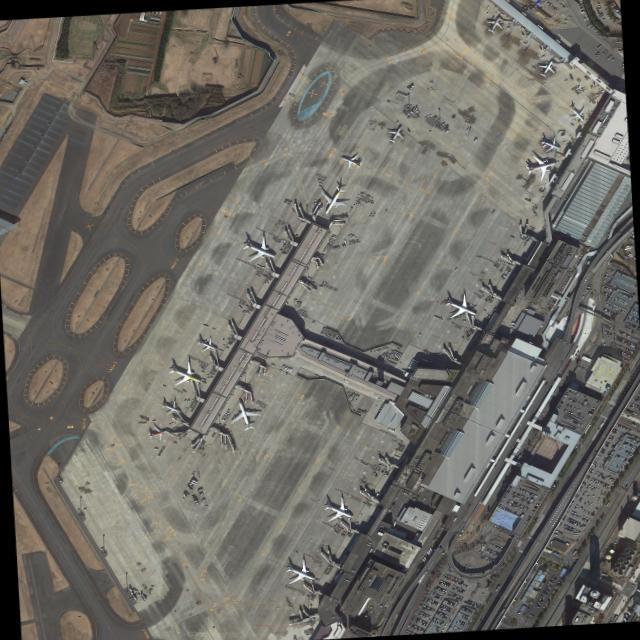large-vehicle: (599, 421, 603, 426), (616, 231, 620, 235), (417, 332, 421, 336), (567, 15, 570, 18), (516, 21, 519, 24), (596, 31, 599, 34), (599, 33, 602, 36), (541, 196, 544, 199), (482, 309, 485, 311)
plane: (307, 175, 360, 223), (232, 227, 286, 271), (433, 285, 485, 329), (158, 352, 209, 395), (311, 488, 361, 530), (273, 551, 324, 592), (224, 396, 267, 435), (519, 148, 563, 186), (189, 331, 224, 358), (380, 119, 410, 148), (333, 149, 367, 174), (141, 420, 172, 446), (562, 99, 591, 126), (534, 132, 565, 157), (481, 11, 506, 36)
small-vehicle: (523, 436, 526, 440), (591, 406, 595, 409), (606, 474, 609, 478), (589, 25, 593, 28), (559, 359, 562, 363), (636, 311, 639, 315), (508, 485, 512, 488), (552, 587, 556, 590), (518, 445, 521, 448), (520, 442, 523, 445), (521, 440, 524, 443), (577, 422, 580, 425), (568, 418, 571, 421), (518, 422, 521, 425), (535, 436, 538, 439), (602, 418, 605, 421), (525, 434, 528, 437), (604, 443, 607, 446), (629, 438, 632, 441), (572, 406, 575, 409), (628, 403, 631, 406), (630, 410, 633, 413), (637, 407, 640, 410), (595, 400, 598, 403), (568, 398, 571, 401), (563, 394, 566, 397), (577, 408, 580, 411), (565, 403, 568, 406), (574, 506, 577, 509), (568, 505, 571, 508), (582, 509, 585, 512), (600, 472, 603, 475), (571, 501, 574, 504), (587, 503, 590, 506), (594, 486, 597, 489), (580, 486, 583, 489), (596, 499, 599, 502), (599, 489, 602, 492), (599, 497, 602, 500), (591, 494, 594, 497), (603, 490, 606, 493), (599, 491, 602, 494), (574, 496, 577, 499), (564, 510, 567, 513), (584, 510, 587, 513), (588, 512, 591, 515), (581, 514, 584, 517), (587, 517, 590, 520), (583, 501, 586, 504), (589, 479, 592, 482), (622, 443, 625, 446), (617, 454, 620, 457), (617, 449, 620, 452), (604, 457, 607, 460), (597, 454, 600, 457), (607, 457, 610, 460), (599, 463, 602, 466), (607, 478, 610, 481), (603, 485, 606, 488), (626, 453, 629, 456), (590, 462, 593, 465), (620, 455, 623, 458), (625, 457, 628, 460), (623, 460, 626, 463), (622, 459, 625, 462), (593, 472, 596, 475), (602, 473, 605, 476), (604, 274, 607, 277), (622, 294, 625, 297), (625, 295, 628, 298), (616, 299, 619, 302), (619, 301, 622, 304), (621, 268, 624, 271), (609, 288, 612, 291), (604, 291, 607, 294), (608, 304, 611, 307), (631, 310, 634, 313), (619, 272, 622, 275), (606, 280, 609, 283), (602, 285, 605, 288), (633, 284, 636, 287), (616, 305, 619, 308), (600, 13, 603, 16), (493, 5, 496, 8), (550, 5, 553, 8), (585, 20, 588, 23), (586, 21, 589, 24), (515, 296, 518, 299), (550, 301, 553, 304), (518, 291, 521, 294), (543, 49, 546, 52), (563, 79, 566, 82), (580, 240, 583, 243), (562, 283, 565, 286), (561, 284, 564, 287), (603, 307, 606, 310), (611, 341, 614, 344), (572, 349, 575, 352), (571, 351, 574, 354), (574, 352, 577, 355), (623, 341, 626, 344), (601, 348, 604, 351), (579, 376, 582, 379), (560, 376, 563, 379), (551, 391, 554, 394), (611, 352, 614, 355), (628, 354, 631, 357), (620, 351, 623, 354), (617, 349, 620, 352), (615, 348, 618, 351), (631, 315, 634, 318), (633, 316, 636, 319), (509, 327, 512, 330), (510, 328, 513, 331), (608, 326, 611, 329), (634, 319, 637, 322), (623, 332, 626, 335), (624, 333, 627, 336), (626, 334, 629, 337), (626, 321, 629, 324), (416, 628, 419, 631), (410, 626, 413, 629), (418, 613, 421, 616), (426, 616, 429, 619), (419, 630, 422, 633), (451, 584, 454, 587), (418, 610, 421, 613), (435, 593, 438, 596), (433, 592, 436, 595), (431, 594, 434, 597), (421, 598, 424, 601), (419, 602, 422, 605), (449, 607, 452, 610), (446, 606, 449, 609), (444, 605, 447, 608), (442, 604, 445, 607), (421, 606, 424, 609), (456, 602, 459, 605), (451, 603, 454, 606), (450, 602, 453, 605), (433, 617, 436, 620), (439, 611, 442, 614), (441, 614, 444, 617), (458, 611, 461, 614), (453, 625, 456, 628), (448, 626, 451, 629), (443, 624, 446, 627), (440, 628, 443, 631), (437, 626, 440, 629), (431, 627, 434, 630), (428, 625, 431, 628), (404, 492, 407, 495), (412, 494, 415, 497), (491, 307, 494, 310), (496, 554, 499, 557), (493, 550, 496, 553), (484, 549, 487, 552), (498, 547, 501, 550), (494, 551, 497, 554), (485, 547, 488, 550), (518, 487, 521, 490), (593, 14, 596, 17), (581, 517, 584, 520), (592, 12, 595, 15), (443, 572, 446, 575), (455, 577, 458, 580), (450, 575, 453, 578), (449, 575, 452, 578), (447, 574, 450, 577), (443, 575, 446, 578), (446, 581, 449, 584), (443, 580, 446, 583), (440, 590, 443, 593), (455, 580, 458, 583), (451, 587, 454, 590), (495, 568, 498, 571), (505, 555, 508, 558), (433, 595, 436, 598), (440, 587, 443, 590), (446, 568, 449, 571), (468, 565, 471, 568), (414, 611, 417, 614), (545, 585, 548, 588), (520, 504, 523, 507), (515, 506, 518, 509), (505, 501, 508, 504), (510, 503, 513, 506), (523, 499, 526, 502), (525, 519, 528, 522), (557, 290, 561, 292), (555, 385, 557, 389), (637, 317, 639, 321), (425, 491, 429, 493), (505, 490, 509, 492), (502, 495, 506, 497), (525, 601, 529, 603), (521, 614, 525, 616), (527, 604, 531, 606), (530, 599, 534, 601), (543, 603, 547, 605), (546, 598, 550, 600), (524, 505, 526, 509), (537, 499, 541, 501), (502, 331, 504, 334), (567, 410, 569, 413), (517, 448, 519, 451), (635, 430, 638, 432), (628, 428, 630, 431), (627, 428, 629, 431), (625, 427, 627, 430), (623, 426, 625, 429), (619, 425, 621, 428), (618, 425, 621, 427), (614, 430, 616, 433), (541, 412, 544, 414), (579, 415, 581, 418), (581, 416, 583, 419), (580, 423, 582, 426), (579, 423, 581, 426), (515, 431, 517, 434), (598, 426, 600, 429), (611, 429, 613, 432), (610, 429, 613, 431), (616, 443, 619, 445), (610, 437, 612, 440), (618, 434, 621, 436), (619, 437, 622, 439), (618, 439, 621, 441), (617, 441, 620, 443), (606, 441, 608, 444), (606, 443, 608, 446), (616, 438, 619, 440), (615, 437, 617, 440), (608, 436, 610, 439), (607, 434, 610, 436), (638, 436, 640, 439), (634, 440, 636, 443), (635, 435, 637, 438), (633, 434, 635, 437), (631, 433, 633, 436), (620, 431, 622, 434), (629, 443, 631, 446), (629, 437, 631, 440), (625, 436, 627, 439), (632, 439, 634, 442), (611, 435, 613, 438), (570, 411, 572, 414), (634, 406, 636, 409), (635, 412, 637, 415), (634, 411, 636, 414), (633, 411, 635, 414), (631, 411, 634, 413), (628, 409, 630, 412), (627, 408, 629, 411), (626, 408, 628, 411), (631, 402, 633, 405), (638, 399, 640, 402), (609, 406, 611, 409), (637, 404, 639, 407), (598, 386, 601, 388), (583, 394, 585, 397), (555, 408, 558, 410), (556, 407, 559, 409), (560, 400, 563, 402), (562, 396, 565, 398), (561, 398, 564, 400), (561, 399, 564, 401), (578, 408, 580, 411), (576, 407, 578, 410), (575, 407, 577, 410), (565, 409, 567, 412), (573, 420, 575, 423), (556, 406, 559, 408), (587, 402, 589, 405), (571, 399, 573, 402), (569, 404, 571, 407), (564, 416, 566, 419), (562, 416, 565, 418), (575, 421, 577, 424), (613, 440, 616, 442), (611, 446, 613, 449), (577, 507, 579, 510), (571, 510, 573, 513), (580, 508, 582, 511), (625, 450, 628, 452), (624, 449, 626, 452), (610, 476, 612, 479), (596, 473, 598, 476), (602, 476, 604, 479), (575, 503, 577, 506), (585, 491, 587, 494), (588, 484, 590, 487), (596, 488, 599, 490), (587, 487, 590, 489), (578, 485, 580, 488), (597, 496, 599, 499), (590, 501, 592, 504), (580, 497, 582, 500), (594, 506, 596, 509), (596, 506, 598, 509), (582, 481, 584, 484), (601, 484, 603, 487), (579, 496, 581, 499), (576, 493, 578, 496), (579, 505, 581, 508), (566, 510, 568, 513), (585, 516, 587, 519), (586, 519, 588, 522), (573, 495, 575, 498), (578, 498, 580, 501), (586, 474, 588, 477), (606, 486, 608, 489), (604, 482, 606, 485), (603, 482, 605, 485), (601, 481, 603, 484), (600, 480, 602, 483), (587, 483, 589, 486), (578, 500, 581, 502), (583, 490, 585, 493), (602, 492, 604, 495), (590, 487, 592, 490), (586, 494, 588, 497), (586, 500, 588, 503), (592, 477, 594, 480), (615, 453, 617, 456), (600, 450, 602, 453), (602, 448, 604, 451), (634, 445, 636, 448), (631, 444, 633, 447), (632, 448, 635, 450), (631, 447, 634, 449), (631, 452, 633, 455), (615, 464, 617, 467), (629, 454, 631, 457), (600, 447, 602, 450), (598, 449, 600, 452), (596, 453, 598, 456), (596, 454, 598, 457), (599, 455, 601, 458), (611, 443, 613, 446), (611, 450, 614, 452), (602, 465, 605, 467), (608, 450, 610, 453), (609, 454, 612, 456), (594, 464, 596, 467), (599, 466, 602, 468), (629, 451, 631, 454), (594, 478, 596, 481), (620, 466, 622, 469), (564, 473, 566, 476), (617, 471, 620, 473), (618, 472, 621, 474), (611, 480, 613, 483), (610, 479, 612, 482), (604, 477, 606, 480), (607, 484, 609, 487), (605, 483, 607, 486), (596, 482, 599, 484), (621, 464, 623, 467), (613, 456, 616, 458), (625, 460, 627, 463), (593, 463, 595, 466), (591, 468, 593, 471), (596, 470, 598, 473), (597, 471, 599, 474), (599, 475, 602, 477), (605, 474, 607, 477), (637, 396, 639, 399), (584, 518, 586, 521), (621, 293, 623, 296), (624, 295, 626, 298), (628, 296, 630, 299), (624, 300, 626, 303), (614, 296, 616, 299), (613, 298, 615, 301), (617, 291, 619, 294), (602, 279, 605, 281), (613, 283, 615, 286), (624, 269, 626, 272), (601, 285, 604, 287), (605, 286, 607, 289), (607, 287, 609, 290), (606, 292, 608, 295), (608, 287, 610, 290), (612, 289, 614, 292), (609, 294, 612, 296), (604, 294, 606, 297), (618, 266, 620, 269), (616, 265, 618, 268), (614, 264, 616, 267), (614, 306, 616, 309), (607, 301, 610, 303), (622, 310, 624, 313), (620, 309, 622, 312), (618, 308, 620, 311), (615, 307, 617, 310), (613, 306, 615, 309), (611, 306, 614, 308), (609, 305, 612, 307), (609, 302, 612, 304), (613, 303, 615, 306), (612, 263, 614, 266), (602, 290, 604, 293), (622, 307, 624, 310), (620, 307, 623, 309), (617, 306, 620, 308), (604, 271, 606, 274), (606, 272, 608, 275), (597, 5, 600, 7), (605, 13, 608, 15), (609, 18, 612, 20), (602, 17, 605, 19), (598, 16, 601, 18), (598, 13, 601, 15), (520, 26, 522, 29), (592, 28, 595, 30), (593, 29, 596, 31), (598, 7, 601, 9), (604, 8, 607, 10), (604, 4, 607, 6), (584, 289, 587, 291), (581, 294, 584, 296), (517, 293, 520, 295), (609, 263, 612, 265), (620, 278, 622, 281), (610, 274, 612, 277), (578, 256, 581, 258), (550, 49, 552, 52), (580, 253, 582, 256), (576, 259, 579, 261), (575, 261, 578, 263), (574, 262, 577, 264), (571, 268, 574, 270), (569, 268, 571, 271), (566, 267, 569, 269), (560, 286, 563, 288), (608, 309, 610, 312), (620, 345, 622, 348), (618, 344, 620, 347), (616, 344, 619, 346), (616, 343, 618, 346), (575, 344, 577, 347), (576, 349, 578, 352), (566, 342, 568, 345), (622, 346, 624, 349), (620, 340, 623, 342), (630, 344, 632, 347), (626, 342, 628, 345), (624, 342, 627, 344), (621, 340, 623, 343), (619, 339, 621, 342), (617, 338, 619, 341), (631, 350, 633, 353), (630, 349, 632, 352), (626, 348, 628, 351), (606, 350, 608, 353), (604, 349, 606, 352), (637, 391, 640, 393), (614, 348, 616, 351), (627, 353, 629, 356), (624, 352, 626, 355), (622, 352, 625, 354), (622, 351, 624, 354), (615, 354, 617, 357), (626, 358, 628, 361), (618, 355, 620, 358), (616, 354, 618, 357), (631, 344, 633, 347), (632, 345, 634, 348), (616, 335, 618, 338), (606, 335, 609, 337), (602, 323, 604, 326), (607, 331, 609, 334), (605, 333, 608, 335), (632, 307, 634, 310), (636, 309, 639, 311), (628, 314, 630, 317), (630, 317, 632, 320), (632, 318, 634, 321), (636, 317, 638, 320), (602, 307, 604, 310), (513, 329, 515, 332), (515, 330, 517, 333), (517, 331, 519, 334), (610, 325, 613, 327), (608, 323, 610, 326), (614, 334, 616, 337), (632, 342, 634, 345), (620, 331, 622, 334), (616, 330, 619, 332), (618, 330, 620, 333), (635, 343, 637, 346), (630, 341, 632, 344), (627, 340, 629, 343), (619, 337, 622, 339), (618, 336, 620, 339), (638, 326, 640, 329), (636, 325, 638, 328), (633, 324, 635, 327), (632, 323, 634, 326), (591, 342, 593, 345), (637, 339, 640, 341), (634, 337, 636, 340), (632, 336, 634, 339), (629, 335, 631, 338), (582, 518, 585, 520), (415, 627, 417, 630), (414, 624, 416, 627), (423, 623, 425, 626), (422, 622, 424, 625), (419, 621, 421, 624), (417, 620, 419, 623), (416, 620, 418, 623), (433, 608, 435, 611), (415, 619, 417, 622), (421, 627, 423, 630), (412, 623, 414, 626), (416, 625, 418, 628), (417, 628, 419, 631), (420, 613, 422, 616), (424, 615, 426, 618), (417, 612, 419, 615), (432, 617, 435, 619), (424, 620, 426, 623), (422, 620, 425, 622), (421, 619, 423, 622), (419, 618, 421, 621), (418, 618, 420, 621), (417, 617, 419, 620), (416, 617, 418, 620), (415, 616, 417, 619), (412, 615, 414, 618), (410, 617, 412, 620), (412, 626, 414, 629), (452, 595, 454, 598), (463, 589, 465, 592), (465, 585, 468, 587), (444, 589, 446, 592), (447, 591, 450, 593), (454, 585, 456, 588), (459, 587, 461, 590), (457, 587, 459, 590), (456, 586, 458, 589), (455, 588, 457, 591), (446, 585, 449, 587), (449, 591, 451, 594), (408, 630, 410, 633), (410, 631, 412, 634), (412, 631, 414, 634), (406, 629, 408, 632), (405, 631, 407, 634), (443, 612, 445, 615), (459, 595, 461, 598), (457, 594, 459, 597), (456, 594, 458, 597), (451, 592, 453, 595), (421, 611, 423, 614), (423, 612, 425, 615), (436, 597, 439, 599), (438, 594, 440, 597), (433, 592, 435, 595), (430, 591, 432, 594), (429, 593, 431, 596), (423, 596, 425, 599), (440, 603, 442, 606), (443, 608, 446, 610), (437, 597, 440, 599), (442, 599, 445, 601), (425, 608, 428, 610), (429, 606, 431, 609), (430, 607, 432, 610), (429, 609, 431, 612), (424, 608, 427, 610), (445, 600, 447, 603), (423, 607, 425, 610), (422, 604, 425, 606), (455, 604, 457, 607), (449, 602, 451, 605), (442, 607, 444, 610), (441, 606, 443, 609), (440, 606, 442, 609), (439, 614, 442, 616), (435, 618, 438, 620), (444, 613, 446, 616), (437, 613, 439, 616), (445, 608, 447, 611), (446, 609, 449, 611), (448, 609, 450, 612), (427, 614, 429, 617), (425, 613, 427, 616), (437, 618, 439, 621), (439, 619, 441, 622), (466, 615, 469, 617), (457, 611, 459, 614), (458, 628, 461, 630), (450, 626, 452, 629), (434, 625, 436, 628), (432, 625, 435, 627), (437, 621, 439, 624), (445, 584, 447, 587), (443, 583, 445, 586), (490, 543, 492, 546), (488, 543, 491, 545), (402, 491, 404, 494), (396, 493, 399, 495), (395, 496, 397, 499), (422, 496, 425, 498), (422, 497, 425, 499), (421, 498, 424, 500), (369, 610, 372, 612), (369, 609, 372, 611), (355, 521, 358, 523), (493, 544, 495, 547), (496, 546, 498, 549), (487, 550, 489, 553), (499, 553, 501, 556), (494, 554, 497, 556), (492, 550, 494, 553), (490, 549, 493, 551), (489, 551, 491, 554), (503, 546, 505, 549), (502, 548, 504, 551), (500, 548, 503, 550), (499, 545, 502, 547), (354, 522, 357, 524), (354, 523, 357, 525), (560, 287, 563, 289), (492, 552, 494, 555), (495, 552, 498, 554), (483, 554, 485, 557), (533, 506, 536, 508), (534, 505, 537, 507), (500, 330, 502, 333), (514, 298, 517, 300), (605, 324, 607, 327), (591, 10, 594, 12), (625, 441, 627, 444), (623, 440, 625, 443), (608, 456, 611, 458), (435, 585, 437, 588), (433, 586, 435, 589), (443, 591, 445, 594), (459, 540, 462, 542), (478, 550, 481, 552), (485, 555, 487, 558), (453, 576, 455, 579), (441, 575, 444, 577), (459, 579, 461, 582), (451, 579, 454, 581), (448, 582, 450, 585), (445, 581, 447, 584), (460, 579, 462, 582), (462, 588, 464, 591), (442, 580, 444, 583), (440, 579, 442, 582), (443, 588, 445, 591), (441, 588, 444, 590), (438, 587, 441, 589), (437, 586, 439, 589), (434, 587, 436, 590), (436, 588, 438, 591), (461, 580, 463, 583), (438, 589, 440, 592), (441, 591, 444, 593), (460, 582, 462, 585), (459, 582, 461, 585), (457, 581, 459, 584), (460, 588, 462, 591), (486, 558, 488, 561), (497, 569, 499, 572), (504, 557, 506, 560), (484, 555, 486, 558), (454, 563, 456, 566), (492, 561, 494, 564), (494, 559, 496, 562), (492, 559, 495, 561), (490, 557, 492, 560), (488, 557, 491, 559), (487, 556, 489, 559), (450, 586, 452, 589), (432, 602, 434, 605), (456, 589, 458, 592), (450, 570, 453, 572), (454, 560, 456, 563), (466, 564, 468, 567), (463, 563, 465, 566), (455, 561, 458, 563), (426, 605, 428, 608), (545, 575, 548, 577), (539, 600, 542, 602), (539, 599, 542, 601), (540, 593, 543, 595), (541, 592, 544, 594), (543, 593, 546, 595), (545, 590, 548, 592), (543, 588, 546, 590), (546, 583, 549, 585), (546, 582, 549, 584), (550, 591, 553, 593), (552, 589, 555, 591), (539, 595, 542, 597), (537, 598, 540, 600), (536, 599, 539, 601), (546, 573, 549, 575), (548, 570, 551, 572), (541, 597, 544, 599), (541, 596, 544, 598), (542, 595, 545, 597), (543, 594, 546, 596), (549, 594, 552, 596), (522, 612, 525, 614), (536, 600, 539, 602), (540, 609, 543, 611), (533, 605, 536, 607), (530, 600, 533, 602), (546, 599, 549, 601), (556, 582, 559, 584), (557, 580, 560, 582), (543, 588, 545, 591), (519, 504, 522, 506), (519, 507, 521, 510), (514, 505, 516, 508), (535, 503, 538, 505), (509, 499, 511, 502), (511, 500, 513, 503), (505, 507, 507, 510), (502, 506, 505, 508), (539, 497, 542, 499), (551, 575, 554, 577), (551, 574, 554, 576), (543, 578, 546, 580), (551, 580, 554, 582), (559, 577, 562, 579), (544, 587, 547, 589), (621, 414, 623, 416), (629, 429, 631, 431), (626, 428, 628, 430), (621, 426, 623, 428), (615, 423, 617, 425), (614, 423, 616, 425), (615, 429, 617, 431), (613, 428, 615, 430), (611, 427, 613, 429), (580, 416, 582, 418), (576, 422, 578, 424), (579, 430, 581, 432), (516, 452, 518, 454), (613, 430, 615, 432), (608, 437, 610, 439), (620, 436, 622, 438), (618, 440, 620, 442), (607, 442, 609, 444), (606, 436, 608, 438), (605, 441, 607, 443), (602, 443, 604, 445), (634, 435, 636, 437), (632, 434, 634, 436), (621, 432, 623, 434), (619, 431, 621, 433), (610, 435, 612, 437), (628, 443, 630, 445), (626, 437, 628, 439), (576, 414, 578, 416), (638, 397, 640, 399), (636, 407, 638, 409), (635, 407, 637, 409), (633, 406, 635, 408), (632, 406, 634, 408), (631, 405, 633, 407), (630, 405, 632, 407), (629, 410, 631, 412), (625, 408, 627, 410), (624, 408, 626, 410), (630, 402, 632, 404), (636, 396, 638, 398), (635, 396, 637, 398), (634, 395, 636, 397), (632, 397, 634, 399), (633, 398, 635, 400), (636, 399, 638, 401), (637, 399, 639, 401), (632, 403, 634, 405), (638, 405, 640, 407), (635, 404, 637, 406), (633, 403, 635, 405), (555, 409, 557, 411), (579, 403, 581, 405), (564, 394, 566, 396), (572, 420, 574, 422), (579, 394, 581, 396), (576, 392, 578, 394), (576, 398, 578, 400), (572, 400, 574, 402), (567, 398, 569, 400), (558, 404, 560, 406), (574, 421, 576, 423), (563, 408, 565, 410), (577, 414, 579, 416), (566, 418, 568, 420), (615, 440, 617, 442), (610, 446, 612, 448), (576, 504, 578, 506), (611, 477, 613, 479), (609, 476, 611, 478), (599, 472, 601, 474), (598, 472, 600, 474), (595, 473, 597, 475), (598, 474, 600, 476), (592, 480, 594, 482), (590, 485, 592, 487), (584, 491, 586, 493), (593, 489, 595, 491), (587, 495, 589, 497), (601, 476, 603, 478), (587, 475, 589, 477), (585, 474, 587, 476), (594, 481, 596, 483), (602, 482, 604, 484), (578, 488, 580, 490), (592, 486, 594, 488), (591, 477, 593, 479), (602, 451, 604, 453), (633, 445, 635, 447), (621, 443, 623, 445), (602, 459, 604, 461), (626, 442, 628, 444), (619, 447, 621, 449), (630, 447, 632, 449), (630, 452, 632, 454), (612, 449, 614, 451), (603, 449, 605, 451), (598, 465, 600, 467), (601, 467, 603, 469), (628, 454, 630, 456), (612, 478, 614, 480), (620, 464, 622, 466), (606, 484, 608, 486), (602, 485, 604, 487), (596, 479, 598, 481), (597, 480, 599, 482), (595, 479, 597, 481), (619, 466, 621, 468), (591, 463, 593, 465), (589, 468, 591, 470), (587, 470, 589, 472), (626, 296, 628, 298), (623, 300, 625, 302), (619, 298, 621, 300), (621, 299, 623, 301), (622, 300, 624, 302), (622, 302, 624, 304), (618, 301, 620, 303), (620, 293, 622, 295), (608, 293, 610, 295), (606, 287, 608, 289), (606, 275, 608, 277), (610, 282, 612, 284), (609, 282, 611, 284), (608, 296, 610, 298), (603, 294, 605, 296), (605, 303, 607, 305), (606, 304, 608, 306), (621, 310, 623, 312), (612, 303, 614, 305), (634, 311, 636, 313), (615, 313, 617, 315), (611, 311, 613, 313), (610, 311, 612, 313), (604, 286, 606, 288), (611, 263, 613, 265), (607, 267, 609, 269), (603, 274, 605, 276), (603, 291, 605, 293), (614, 304, 616, 306), (629, 306, 631, 308), (623, 308, 625, 310), (619, 306, 621, 308), (615, 305, 617, 307), (608, 276, 610, 278), (597, 1, 599, 3), (522, 26, 524, 28), (523, 27, 525, 29), (535, 308, 537, 310), (535, 310, 537, 312), (580, 297, 582, 299), (584, 290, 586, 292), (585, 288, 587, 290), (588, 283, 590, 285), (564, 280, 566, 282), (609, 268, 611, 270), (611, 269, 613, 271), (617, 272, 619, 274), (517, 294, 519, 296), (565, 78, 567, 80), (605, 308, 607, 310), (613, 315, 615, 317), (619, 345, 621, 347), (614, 343, 616, 345), (574, 347, 576, 349), (537, 330, 539, 332), (537, 329, 539, 331), (621, 346, 623, 348), (623, 347, 625, 349), (629, 344, 631, 346), (628, 343, 630, 345), (622, 341, 624, 343), (625, 348, 627, 350), (616, 338, 618, 340), (614, 337, 616, 339), (627, 349, 629, 351), (607, 351, 609, 353), (605, 350, 607, 352), (559, 379, 561, 381), (638, 392, 640, 394), (608, 351, 610, 353), (625, 353, 627, 355), (611, 347, 613, 349), (624, 358, 626, 360), (623, 357, 625, 359), (622, 357, 624, 359), (621, 357, 623, 359), (619, 356, 621, 358), (603, 330, 605, 332), (604, 330, 606, 332), (609, 332, 611, 334), (608, 332, 610, 334), (605, 331, 607, 333), (606, 325, 608, 327), (626, 316, 628, 318), (603, 324, 605, 326), (607, 326, 609, 328), (518, 337, 520, 339), (613, 312, 615, 314), (514, 330, 516, 332), (520, 338, 522, 340), (521, 338, 523, 340), (522, 339, 524, 341), (609, 324, 611, 326), (612, 328, 614, 330), (611, 327, 613, 329), (610, 327, 612, 329), (635, 317, 637, 319), (622, 332, 624, 334), (621, 332, 623, 334), (631, 342, 633, 344), (626, 334, 628, 336), (629, 341, 631, 343), (624, 339, 626, 341), (623, 338, 625, 340), (621, 338, 623, 340), (636, 320, 638, 322), (625, 321, 627, 323), (637, 329, 639, 331), (630, 323, 632, 325), (628, 335, 630, 337), (636, 338, 638, 340), (633, 337, 635, 339), (631, 336, 633, 338), (585, 519, 587, 521), (501, 331, 503, 333), (420, 611, 422, 613), (414, 627, 416, 629), (413, 624, 415, 626), (435, 604, 437, 606), (418, 621, 420, 623), (414, 619, 416, 621), (417, 626, 419, 628), (419, 627, 421, 629), (425, 621, 427, 623), (422, 614, 424, 616), (425, 616, 427, 618), (418, 629, 420, 631), (463, 584, 465, 586), (462, 584, 464, 586), (461, 583, 463, 585), (460, 591, 462, 593), (453, 585, 455, 587), (454, 588, 456, 590), (453, 588, 455, 590), (453, 596, 455, 598), (407, 624, 409, 626), (407, 630, 409, 632), (405, 629, 407, 631), (406, 632, 408, 634), (404, 631, 406, 633), (444, 616, 446, 618), (450, 592, 452, 594), (455, 594, 457, 596), (424, 605, 426, 607), (439, 595, 441, 597), (430, 594, 432, 596), (444, 600, 446, 602), (427, 606, 429, 608), (431, 608, 433, 610), (431, 611, 433, 613), (430, 610, 432, 612), (428, 609, 430, 611), (445, 614, 447, 616), (438, 611, 440, 613), (435, 612, 437, 614), (438, 619, 440, 621), (436, 596, 438, 598), (429, 615, 431, 617), (445, 622, 447, 624), (459, 615, 461, 617), (460, 612, 462, 614), (440, 623, 442, 625), (434, 628, 436, 630), (441, 583, 443, 585), (440, 582, 442, 584), (491, 544, 493, 546), (403, 492, 405, 494), (495, 546, 497, 548), (490, 552, 492, 554), (486, 550, 488, 552), (497, 547, 499, 549), (487, 548, 489, 550), (504, 547, 506, 549), (487, 559, 489, 561), (411, 623, 413, 625), (410, 625, 412, 627), (497, 552, 499, 554), (448, 569, 450, 571), (438, 581, 440, 583), (450, 568, 452, 570), (421, 622, 423, 624), (439, 582, 441, 584), (601, 550, 603, 552), (600, 11, 602, 13), (597, 11, 599, 13), (453, 579, 455, 581), (454, 580, 456, 582), (454, 577, 456, 579), (452, 576, 454, 578), (446, 574, 448, 576), (449, 578, 451, 580), (447, 577, 449, 579), (458, 579, 460, 581), (435, 588, 437, 590), (439, 579, 441, 581), (439, 590, 441, 592), (486, 556, 488, 558), (500, 565, 502, 567), (480, 556, 482, 558), (483, 557, 485, 559), (488, 560, 490, 562), (489, 560, 491, 562), (453, 563, 455, 565), (453, 560, 455, 562), (449, 569, 451, 571), (434, 604, 436, 606), (433, 603, 435, 605), (431, 602, 433, 604), (448, 566, 450, 568), (449, 567, 451, 569), (467, 565, 469, 567), (465, 564, 467, 566), (578, 516, 580, 518), (535, 602, 537, 604), (550, 593, 552, 595), (538, 602, 540, 604), (507, 502, 509, 504), (513, 505, 515, 507), (508, 503, 510, 505), (507, 499, 509, 501), (510, 500, 512, 502), (550, 577, 552, 579), (551, 576, 553, 578), (544, 577, 546, 579), (628, 437, 629, 440), (635, 398, 636, 401), (639, 405, 640, 408), (559, 401, 562, 402), (564, 393, 567, 394), (629, 349, 630, 352), (538, 327, 541, 328), (614, 353, 615, 356), (639, 348, 640, 351), (565, 392, 568, 393), (492, 558, 493, 561), (554, 585, 557, 586), (555, 584, 558, 585), (546, 589, 549, 590), (542, 590, 545, 591), (613, 428, 614, 430), (604, 441, 605, 443), (639, 400, 640, 402), (559, 402, 561, 403), (569, 411, 570, 413), (590, 471, 591, 473), (581, 506, 582, 508), (599, 480, 600, 482), (621, 302, 622, 304), (610, 0, 612, 1), (581, 296, 583, 297), (535, 333, 537, 334), (536, 332, 538, 333), (536, 331, 538, 332), (538, 329, 540, 330), (538, 328, 540, 329), (639, 389, 640, 391), (634, 343, 635, 345), (443, 615, 444, 617), (442, 612, 443, 614), (435, 596, 436, 598), (460, 590, 461, 592), (548, 586, 550, 587), (552, 580, 554, 581)
